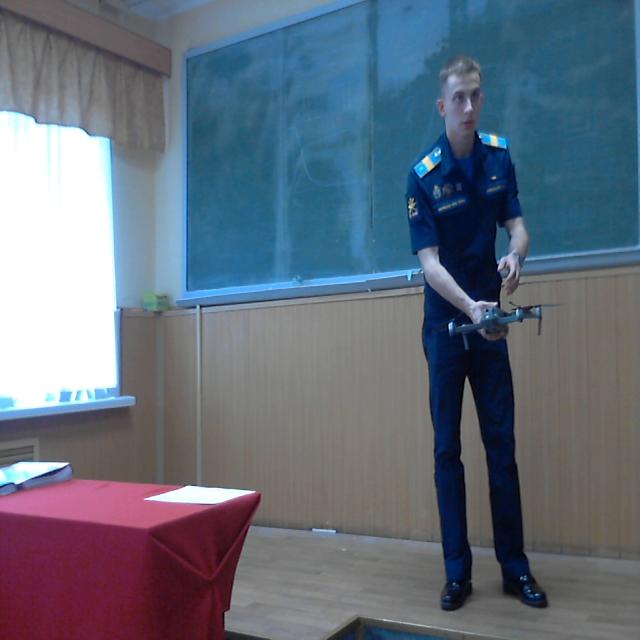drone: (435, 274, 555, 352)
